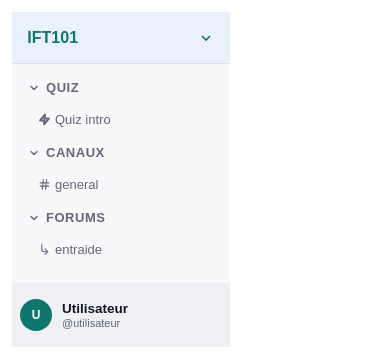
Scenario: CourseMenu › sélecteur de cours › Échap dans la recherche referme la liste
The width and height of the screenshot is (372, 364).
Click the button "IFT101" at (121, 38), box top-left (12, 12), bottom-right (230, 63)
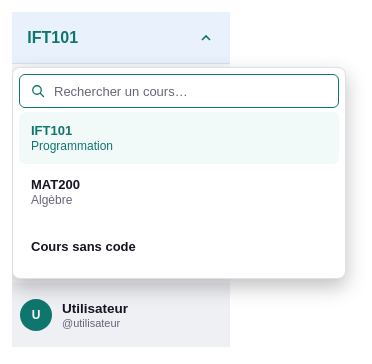
Press Escape in the field with placeholder "Rechercher un cours…", box top-left (54, 84), bottom-right (328, 98)
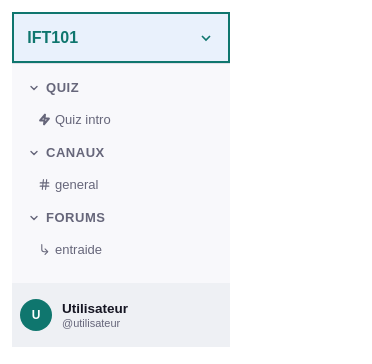
Expected: the list "IFT101 Programmation MAT200 Algèbre Cours sans code" is gone
